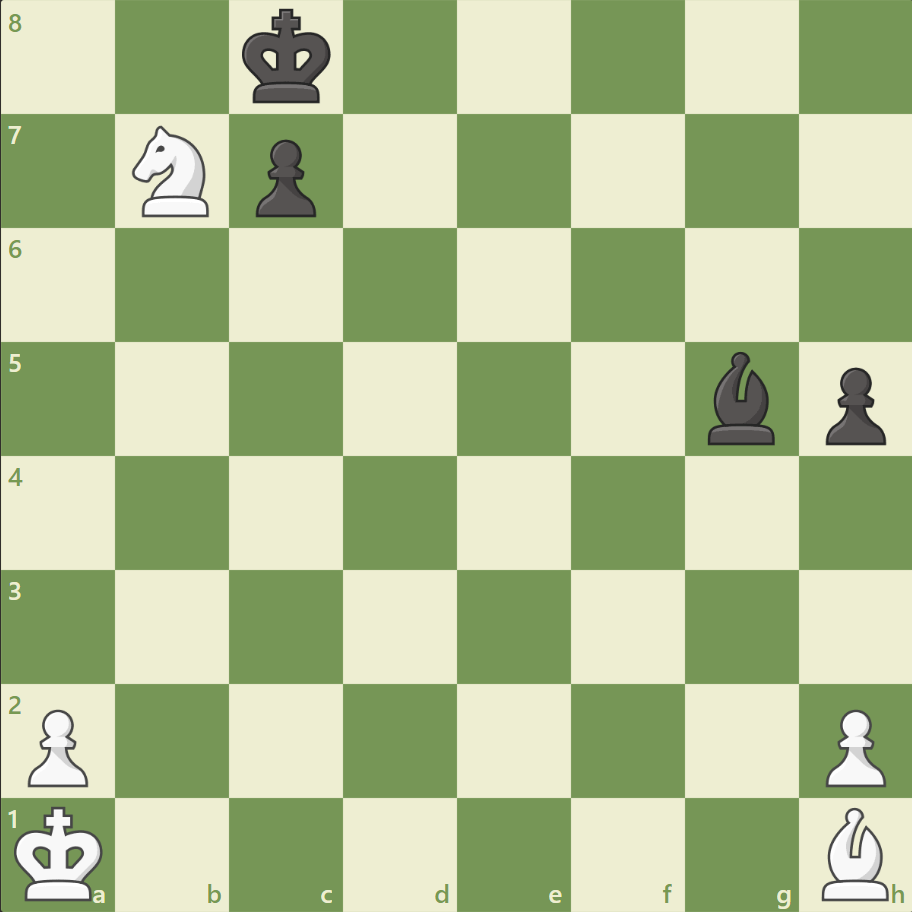B: (812, 801, 896, 904)
K: (11, 798, 111, 906)
N: (124, 121, 222, 223)
P: (20, 700, 95, 791), (815, 700, 889, 791)
b: (698, 347, 782, 449)
k: (238, 4, 338, 112)
p: (247, 132, 322, 223), (815, 359, 889, 450)
